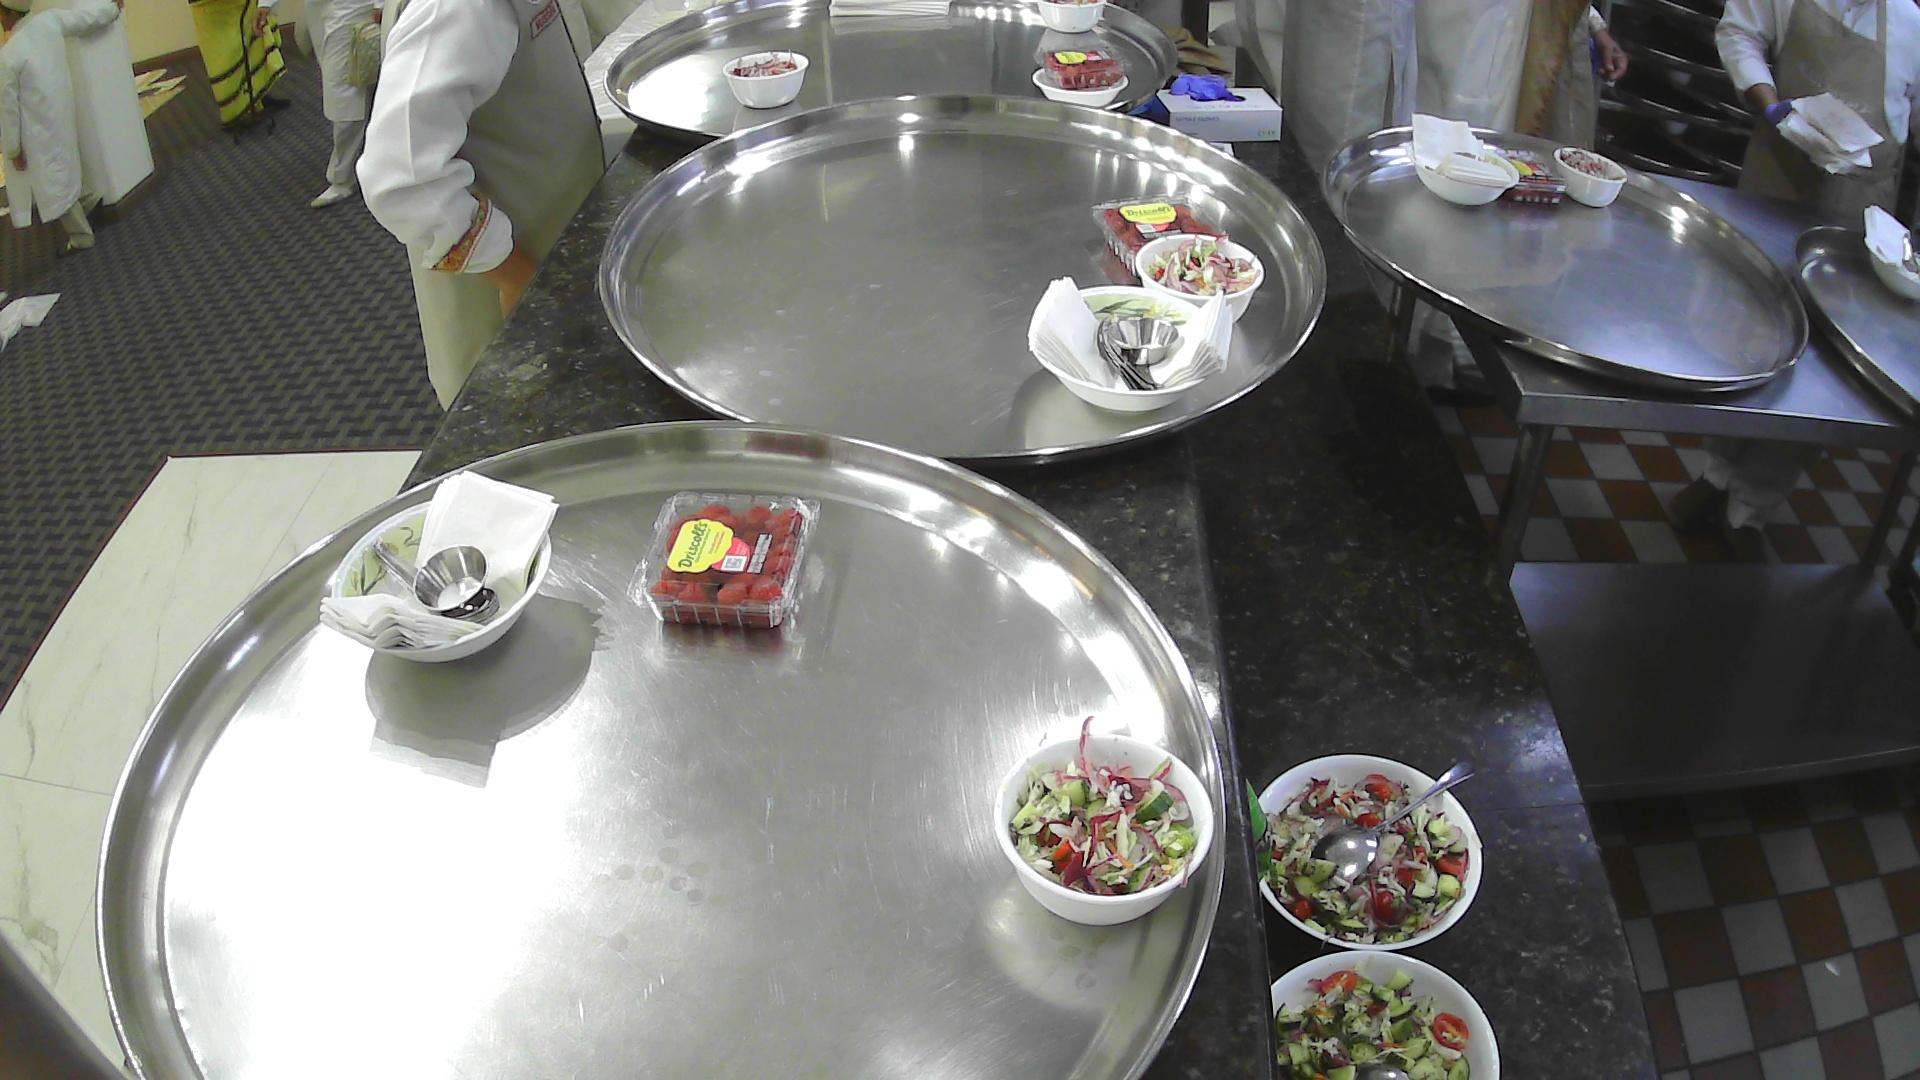thaal: (92, 415, 1229, 1080), (596, 87, 1331, 476), (1317, 120, 1811, 401), (604, 0, 1180, 152), (1789, 222, 1920, 433)
